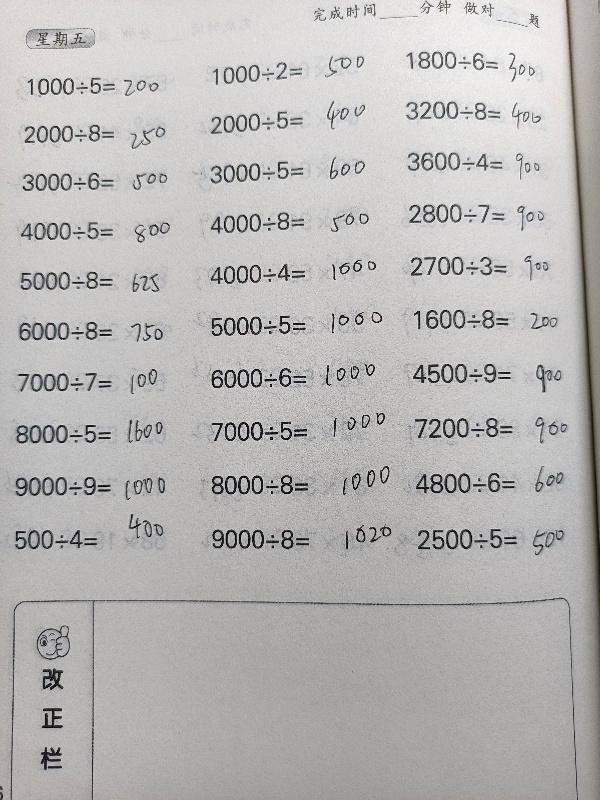equation: (397, 44, 577, 88), (395, 42, 575, 86), (191, 465, 393, 502), (204, 408, 385, 449), (204, 522, 384, 559), (409, 521, 589, 557), (7, 521, 187, 557), (400, 410, 580, 446), (7, 469, 187, 504), (406, 465, 586, 500), (8, 417, 188, 452), (202, 360, 382, 395), (404, 356, 584, 391), (405, 302, 585, 337), (201, 256, 381, 291), (401, 248, 581, 283), (397, 94, 577, 129), (8, 365, 188, 399), (9, 314, 189, 348), (202, 308, 382, 342), (12, 264, 192, 298), (201, 205, 381, 239), (401, 197, 581, 231), (202, 154, 382, 188), (399, 145, 579, 179), (19, 69, 199, 103), (12, 214, 192, 247), (13, 165, 193, 198), (15, 117, 195, 150), (202, 105, 382, 138), (203, 56, 383, 89)
